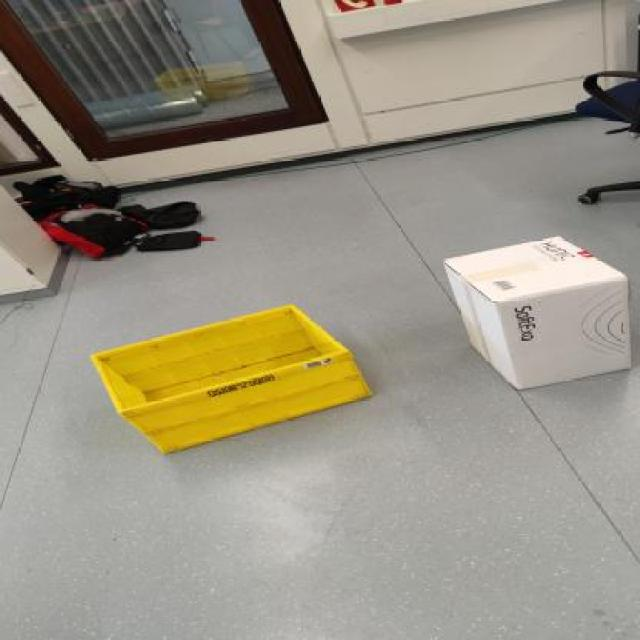box: (93, 296, 387, 470), (400, 223, 640, 420)
